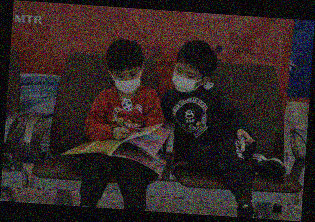with_mask: (112, 67, 142, 96), (172, 64, 202, 93)
